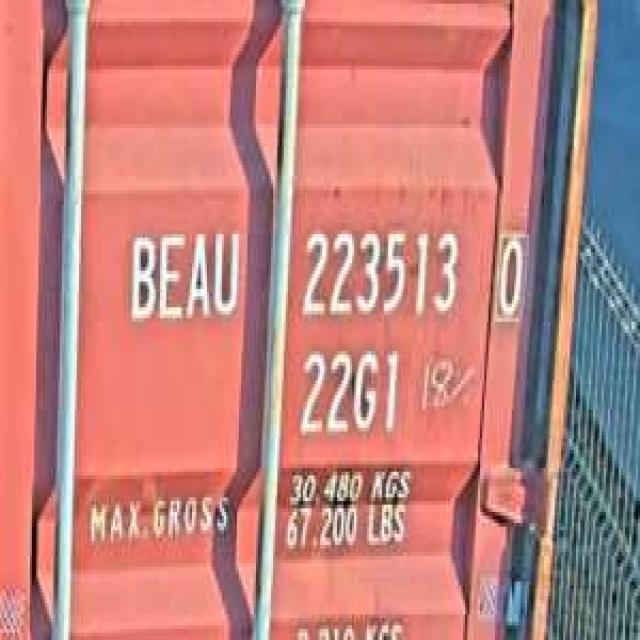dv: (491, 223, 529, 329)
owner: (122, 220, 243, 329)
serial: (292, 216, 463, 325)
size: (294, 340, 404, 446)
